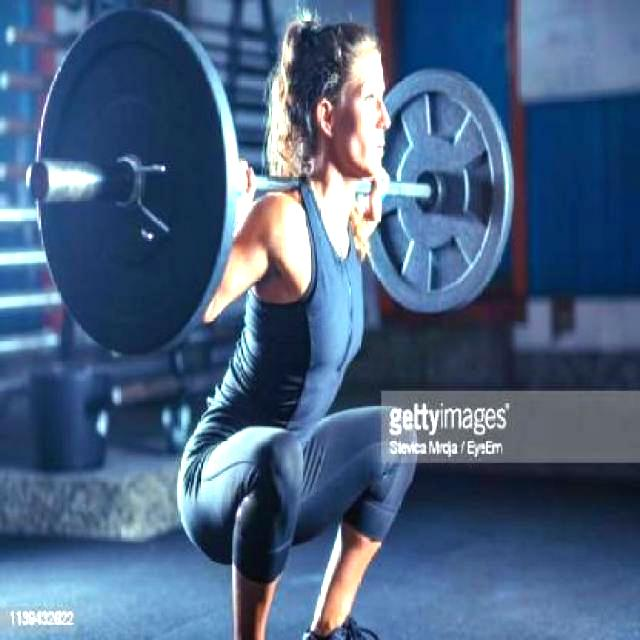barbell: (20, 1, 251, 384)
